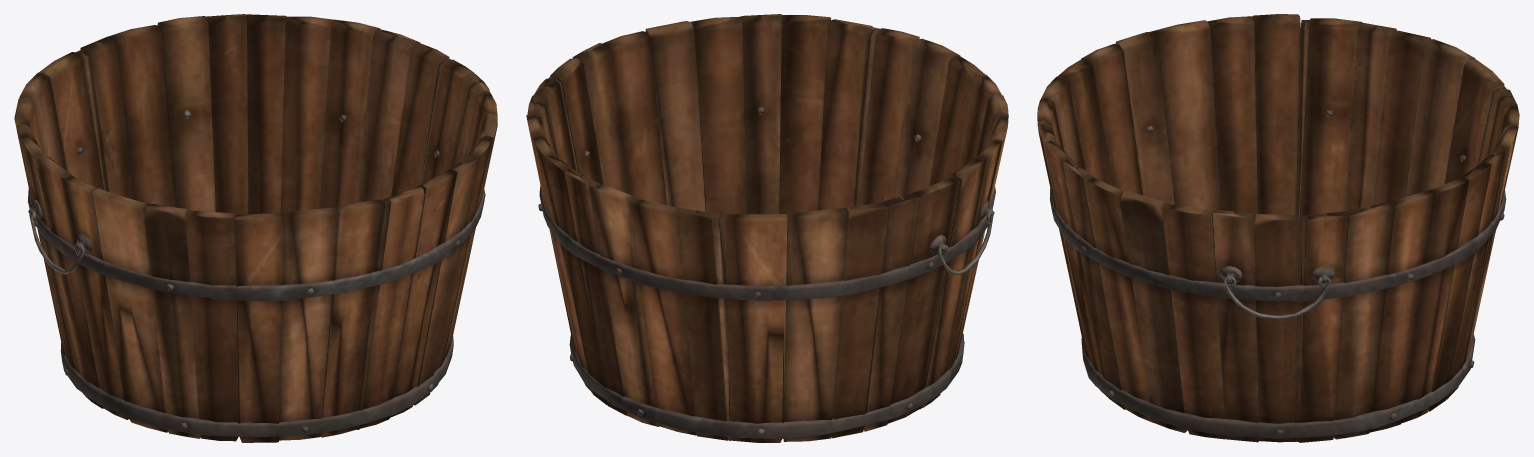
File: tub.glb
3 renders of one model, left to right at view 1: azimuth 30°, elevation 25°; view 2: azimuth 150°, elevation 25°; view 3: azimuth 270°, elevation 25°, orthographic.
Parts seen in each view (by area): view 1: wooden_bucket_02; view 2: wooden_bucket_02; view 3: wooden_bucket_02.
Boxes of the visible parts, box(x1,y1,x2,y2) form: wooden_bucket_02: box(14, 14, 497, 442); wooden_bucket_02: box(526, 14, 1008, 442); wooden_bucket_02: box(1037, 14, 1519, 442).
Bounding box in the file's own units: 0.6142 × 0.3504 × 0.6139.
Materials: 1 (1 with a texture image).
